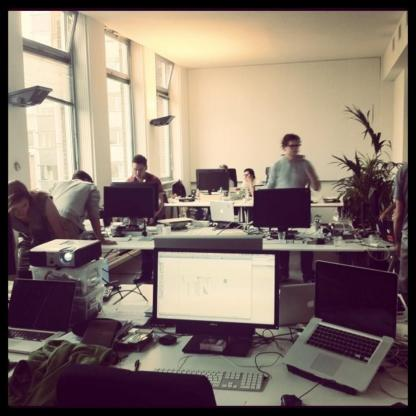board: (288, 264, 392, 386), (7, 279, 77, 354), (210, 200, 239, 223), (376, 216, 394, 242)
